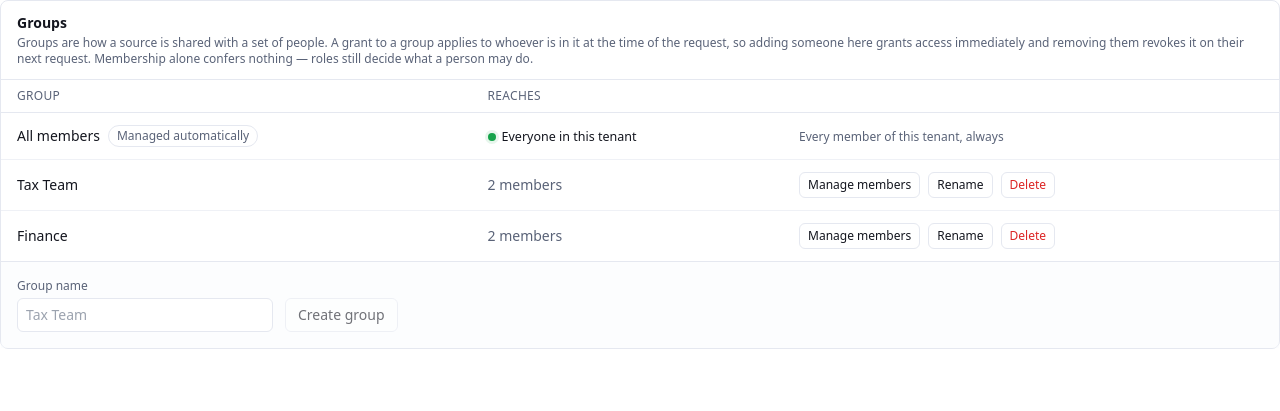
Test: GroupsPanel › does not let a slower rename close a draft opened on another row
The image size is (1280, 411).
Expected: the text "Finance" is shown, [17, 226, 68, 246]
Start renaming Tax Team, leave it in flight, then open Finance's draft.
Click the button with aria-label "rename tax team": x=960, y=185 [928, 172, 993, 198]
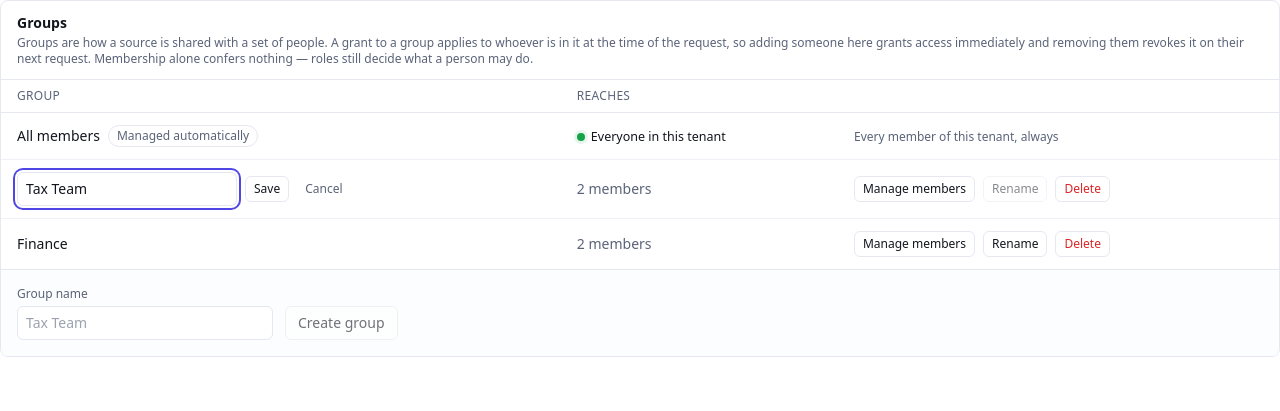
Click the button "Save": x=267, y=189 [245, 176, 289, 202]
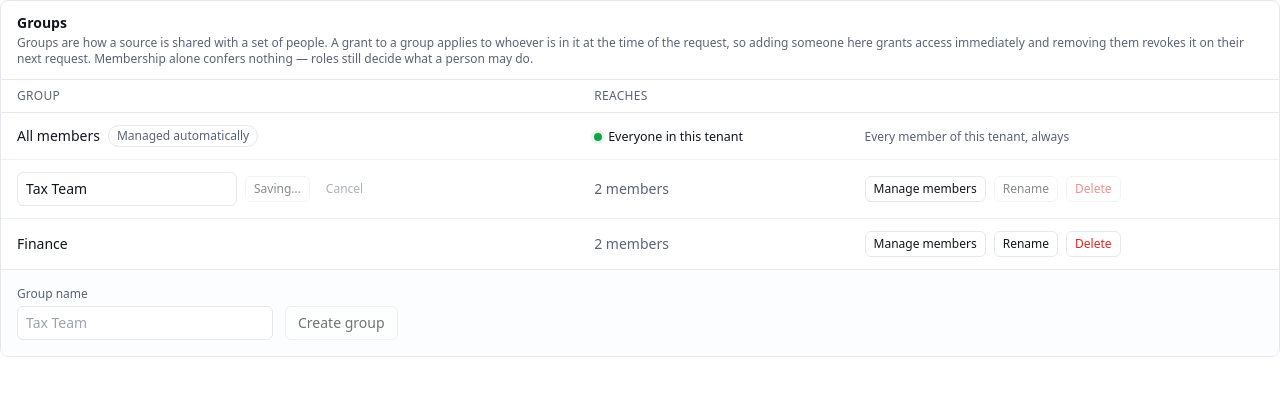
Click the button with aria-label "rename finance": x=1026, y=244 [994, 231, 1058, 257]
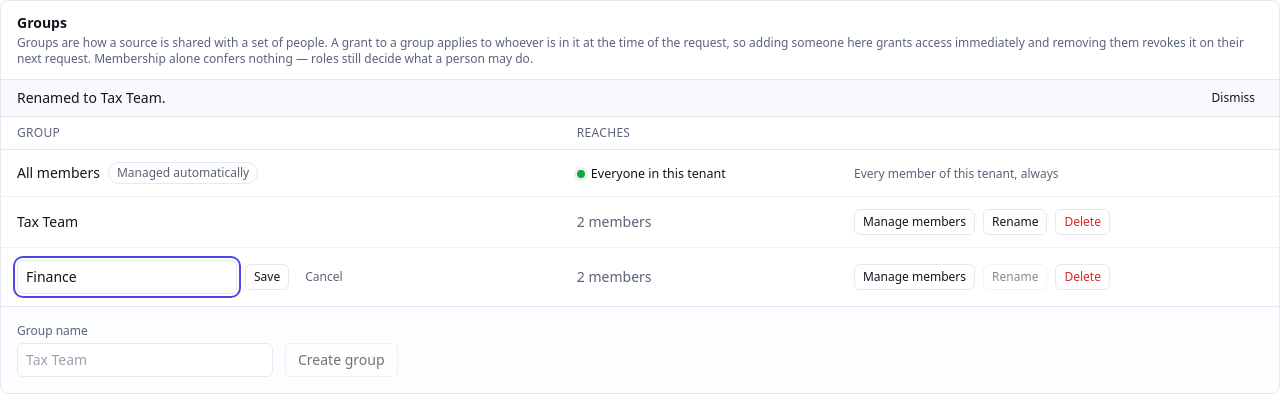
Expected: the text "Renamed to Tax Team." is shown, [17, 88, 166, 108]
Expected: the field named "new name for finance" is shown, [17, 260, 237, 294]
